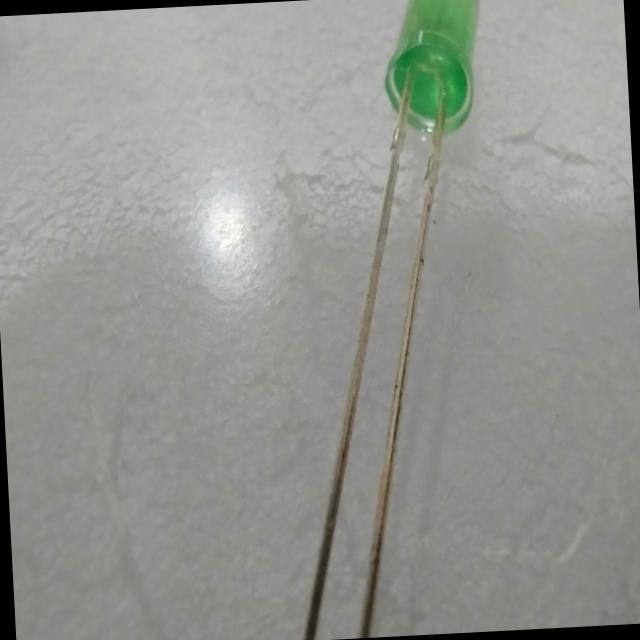green_led: (370, 0, 493, 148)
